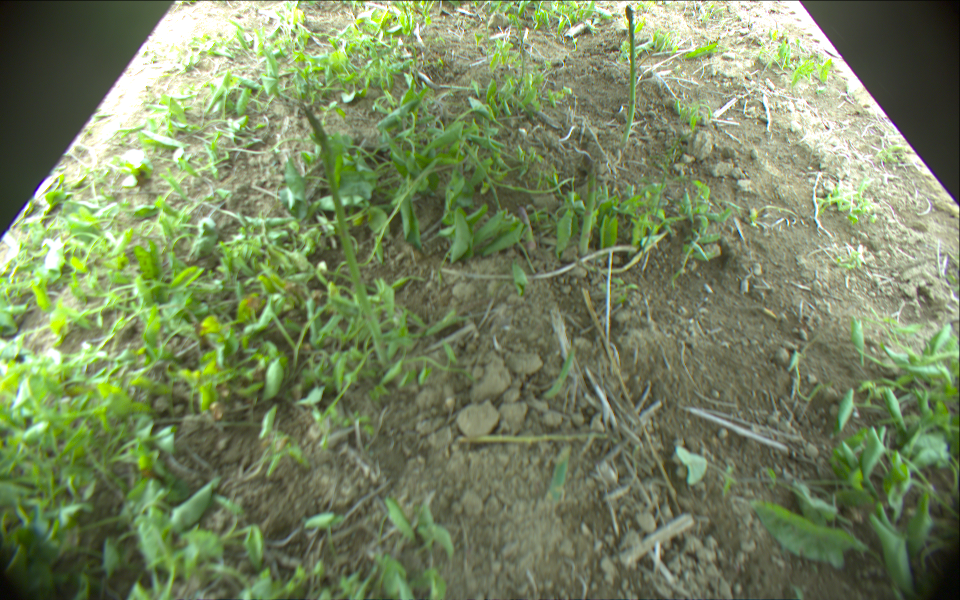aspa: (301, 108, 381, 337), (579, 164, 599, 256), (627, 8, 636, 145), (517, 207, 539, 255)
